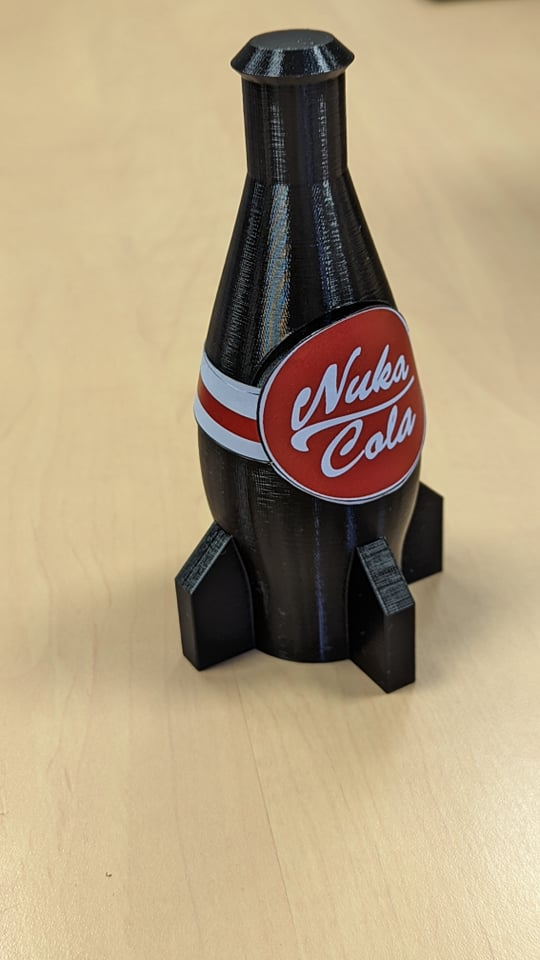bottle: (144, 14, 474, 723)
